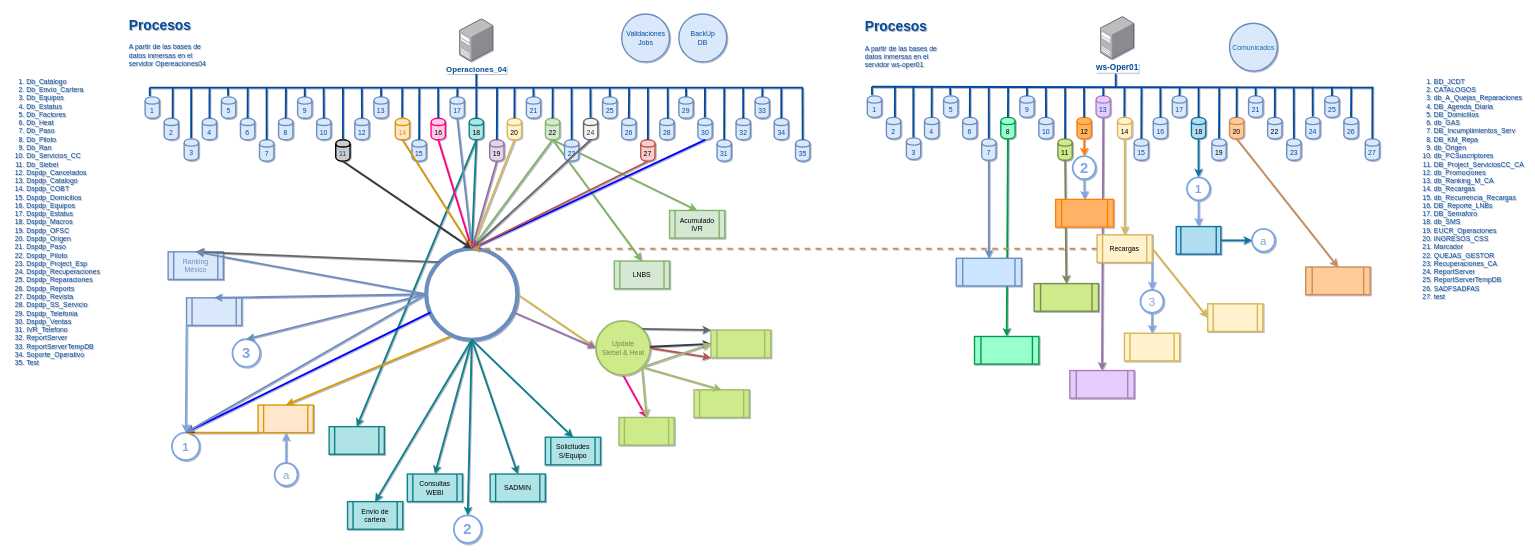
Image size: 1535x554. Some labels were removed from this diagram. The box of each missing label's shape, as (x1, y1, x2, y2) in pixels:
Actualización de Recargas: (1124, 332, 1180, 361)
Combos: (693, 389, 750, 418)
Cuentas de Lealtad: (257, 404, 314, 433)
Etapa 3: (328, 426, 385, 455)
Factor de Recarga: (1207, 303, 1263, 332)
Ingresos al centro de servicio: (1305, 266, 1371, 295)
IRDS: (618, 417, 675, 446)
Kilometraje: (974, 336, 1039, 365)
Paternidad: (186, 297, 242, 326)
Penalizaciones México: (955, 257, 1022, 286)
Promociones: (1055, 198, 1114, 227)
Proyecto Final Macros: (424, 246, 519, 342)
Ranking CA: (1069, 370, 1135, 399)
Revista Diaria & Mensual: (710, 329, 771, 358)
Servicios con Costo CA: (1033, 283, 1099, 312)
SMS: (1175, 226, 1221, 255)
